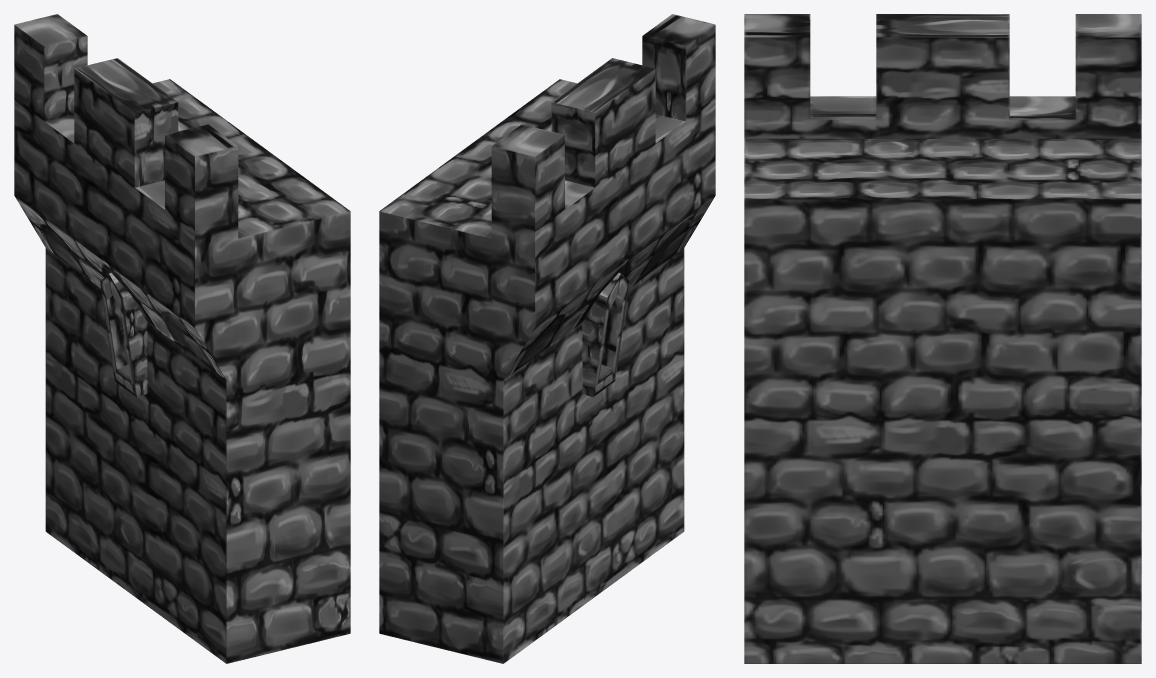
Rendered from Tower2.3 (wallOnly).fbx.
3 renders of one model, left to right at view 1: azimuth 30°, elevation 25°; view 2: azimuth 150°, elevation 25°; view 3: azimuth 270°, elevation 25°, orthographic. The views are drawn at different scales.
Visible parts, largest first — view 1: Fortress wall.003; view 2: Fortress wall.003; view 3: Fortress wall.003.
Boxes of the visible parts, <box> form: Fortress wall.003: <box>14,14,350,663</box>; Fortress wall.003: <box>379,14,715,663</box>; Fortress wall.003: <box>744,14,1141,663</box>.
Size of the model in its own units: 349 by 1100 by 700.
1 material, 1 textured.
